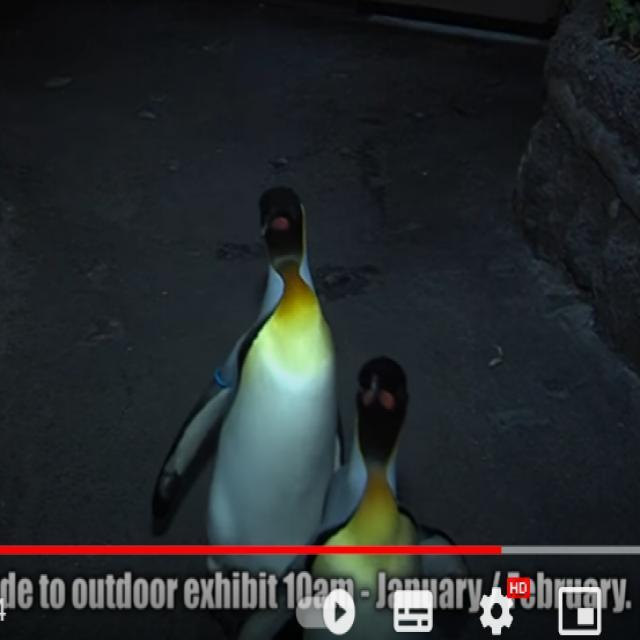Penguin: (148, 182, 406, 560), (302, 316, 450, 640)
